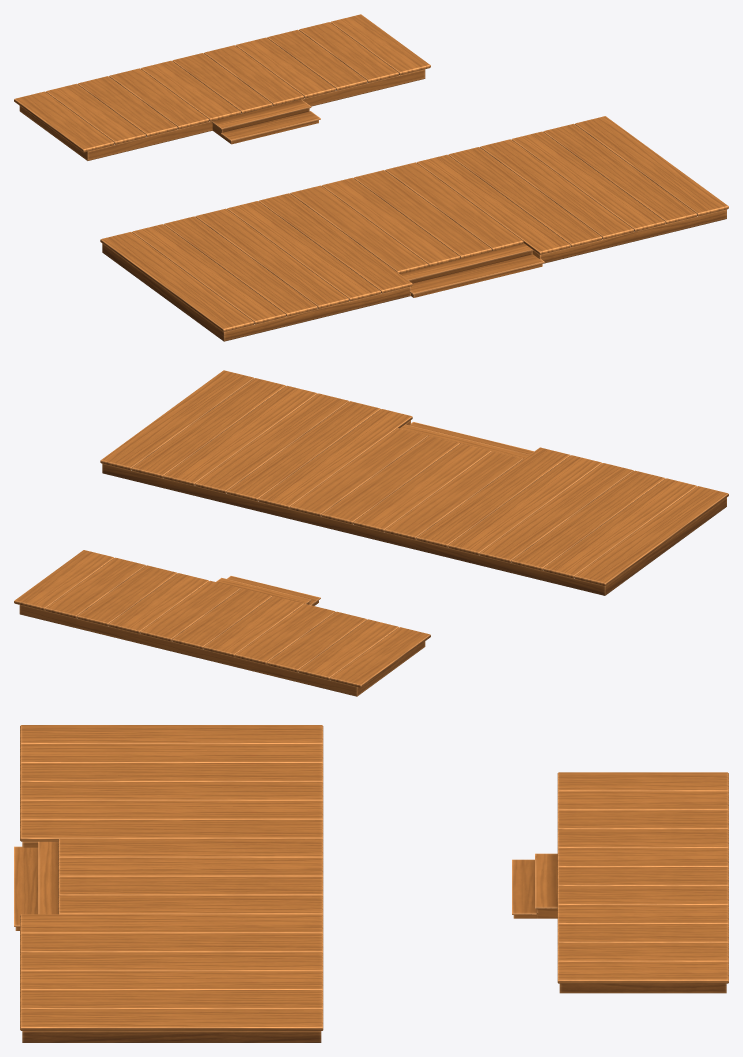
File: obj_floor.gltf
3 renders of one model, top to bottom at view 1: azimuth 30°, elevation 25°; view 2: azimuth 150°, elevation 25°; view 3: azimuth 270°, elevation 25°, orthographic. The views are drawn at different scales.
Visible parts, largest first — view 1: obj_floor; view 2: obj_floor; view 3: obj_floor.
Part boxes in pixels (bbox=[...]): obj_floor: bbox=[14, 14, 728, 341]; obj_floor: bbox=[14, 370, 728, 696]; obj_floor: bbox=[14, 725, 728, 1042].
Size of what is drawn, in the model's own units: 15.85 by 0.4 by 15.81.
Materials: 1 (1 with a texture image).
